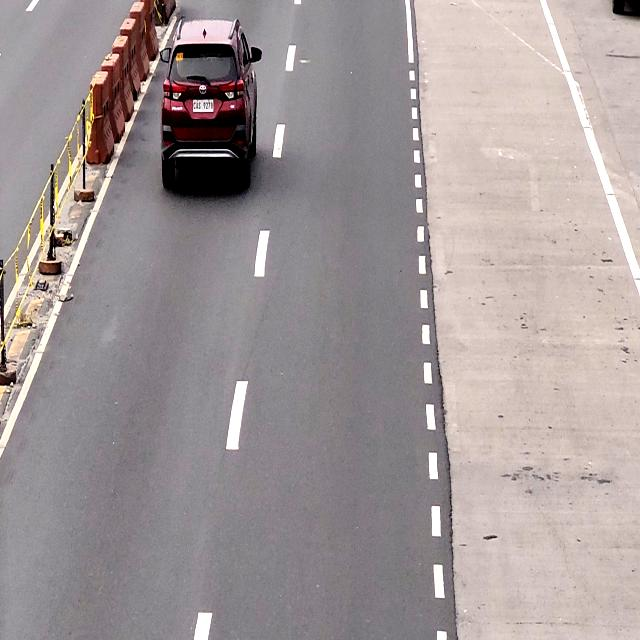Car: (161, 22, 259, 185)
License-Plate: (192, 100, 212, 112)
